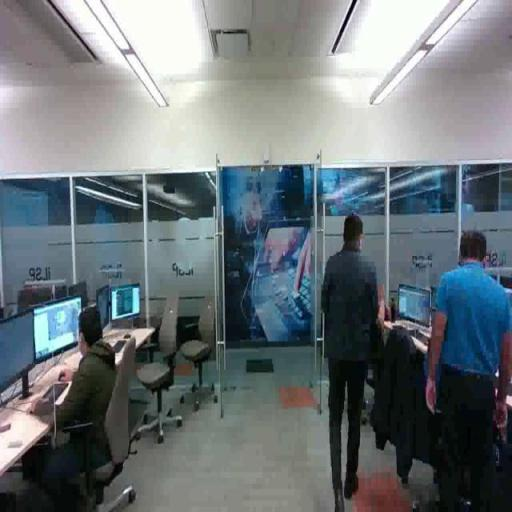person: (429, 229, 512, 512), (19, 305, 130, 512), (324, 207, 379, 512)
